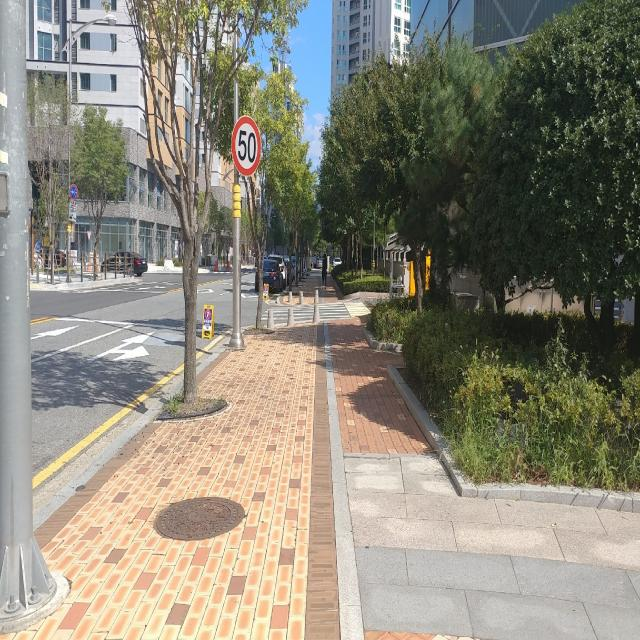횡단보도: (260, 302, 350, 321)
